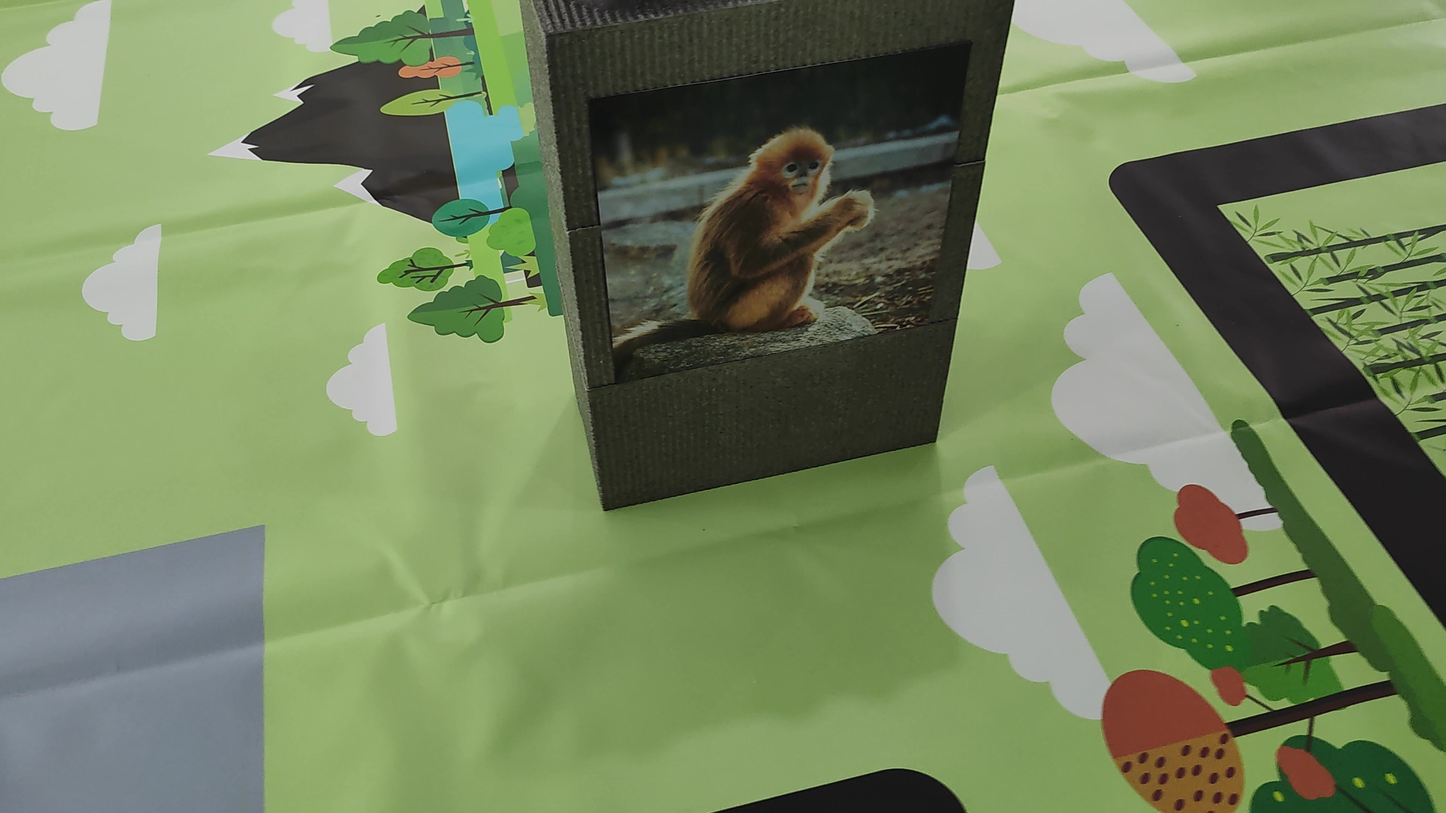monkey: (628, 90, 923, 396)
